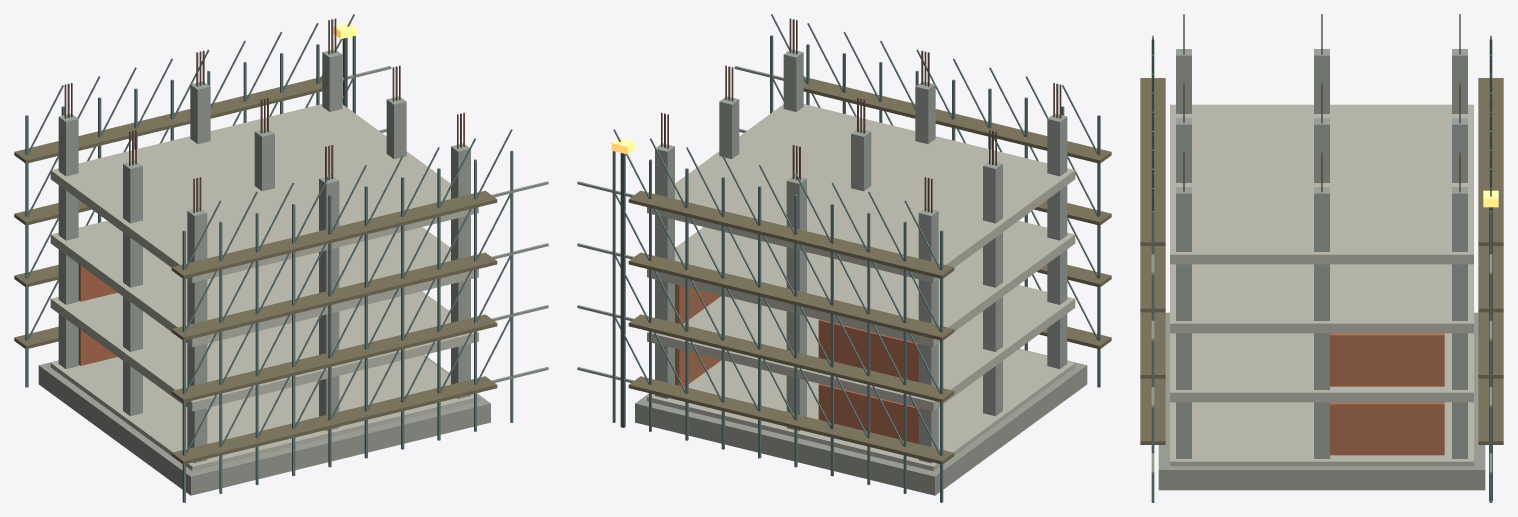
Rendered from building-frame.glb.
3 renders of one model, left to right at view 1: azimuth 30°, elevation 25°; view 2: azimuth 150°, elevation 25°; view 3: azimuth 270°, elevation 25°, orthographic. The views are drawn at different scales.
Parts seen in each view (by area): view 1: building-frame_c7c6b8, scaffold_837a61, building-frame_a8afa8, scaffold_6f8885, building-frame, scaffold_728b87, building-frame_73564b, building-frame_be7655, scaffold_9eaaa0; view 2: building-frame_c7c6b8, scaffold_837a61, building-frame_a8afa8, building-frame, scaffold_6f8885, scaffold_728b87, building-frame_be7655, building-frame_73564b, building-frame_bd7b59, scaffold_9eaaa0; view 3: building-frame_c7c6b8, building-frame_a8afa8, scaffold_837a61, building-frame_bd7b59, building-frame, scaffold_6f8885, building-frame_73564b, scaffold_728b87, scaffold_9eaaa0.
Part boxes in pixels (left/top/right/bottom): building-frame_c7c6b8: left=50, top=104, right=478, bottom=470; scaffold_837a61: left=14, top=77, right=497, bottom=464; building-frame_a8afa8: left=58, top=49, right=470, bottom=463; scaffold_6f8885: left=25, top=35, right=513, bottom=502; building-frame: left=38, top=23, right=490, bottom=495; scaffold_728b87: left=28, top=14, right=512, bottom=454; building-frame_73564b: left=64, top=18, right=464, bottom=212; building-frame_be7655: left=78, top=264, right=117, bottom=365; scaffold_9eaaa0: left=342, top=66, right=548, bottom=382; building-frame_c7c6b8: left=647, top=104, right=1075, bottom=470; scaffold_837a61: left=628, top=77, right=1111, bottom=464; building-frame_a8afa8: left=655, top=49, right=1067, bottom=463; building-frame: left=611, top=138, right=1087, bottom=495; scaffold_6f8885: left=612, top=35, right=1100, bottom=502; scaffold_728b87: left=613, top=14, right=1097, bottom=454; building-frame_be7655: left=818, top=319, right=918, bottom=443; building-frame_73564b: left=661, top=18, right=1061, bottom=212; building-frame_bd7b59: left=675, top=284, right=721, bottom=386; scaffold_9eaaa0: left=577, top=66, right=783, bottom=382; building-frame_c7c6b8: left=1170, top=104, right=1473, bottom=466; building-frame_a8afa8: left=1176, top=49, right=1467, bottom=458; scaffold_837a61: left=1140, top=78, right=1503, bottom=444; building-frame_bd7b59: left=1330, top=333, right=1444, bottom=455; building-frame: left=1158, top=190, right=1498, bottom=500; scaffold_6f8885: left=1151, top=39, right=1492, bottom=502; building-frame_73564b: left=1183, top=14, right=1460, bottom=192; scaffold_728b87: left=1152, top=35, right=1491, bottom=210; scaffold_9eaaa0: left=1151, top=254, right=1492, bottom=473.
Size of the model in its own units: 8.15 by 6.5 by 6.45.
